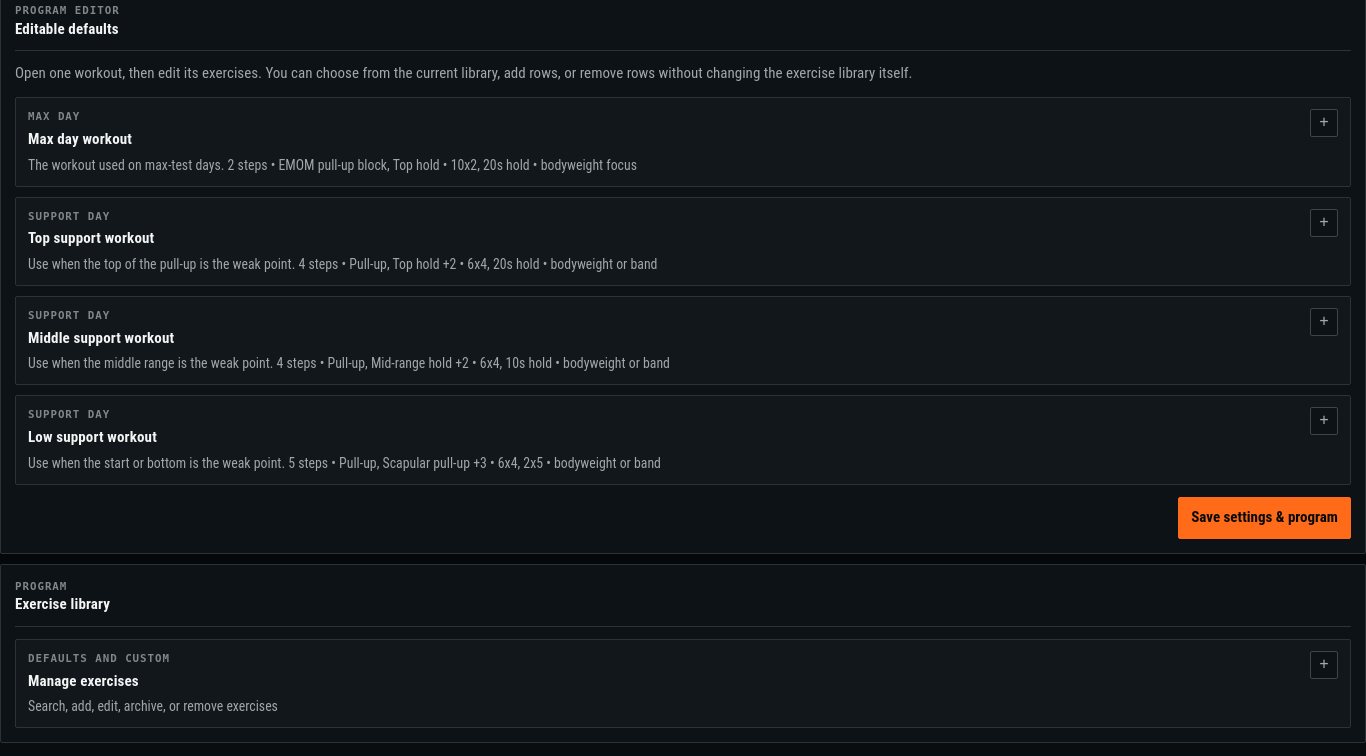
compact hybrid UI refresh › keeps a single program workout open at a time
Click the button "Max day workout": (54, 117) [16,98,1350,186]
(page scrolled)
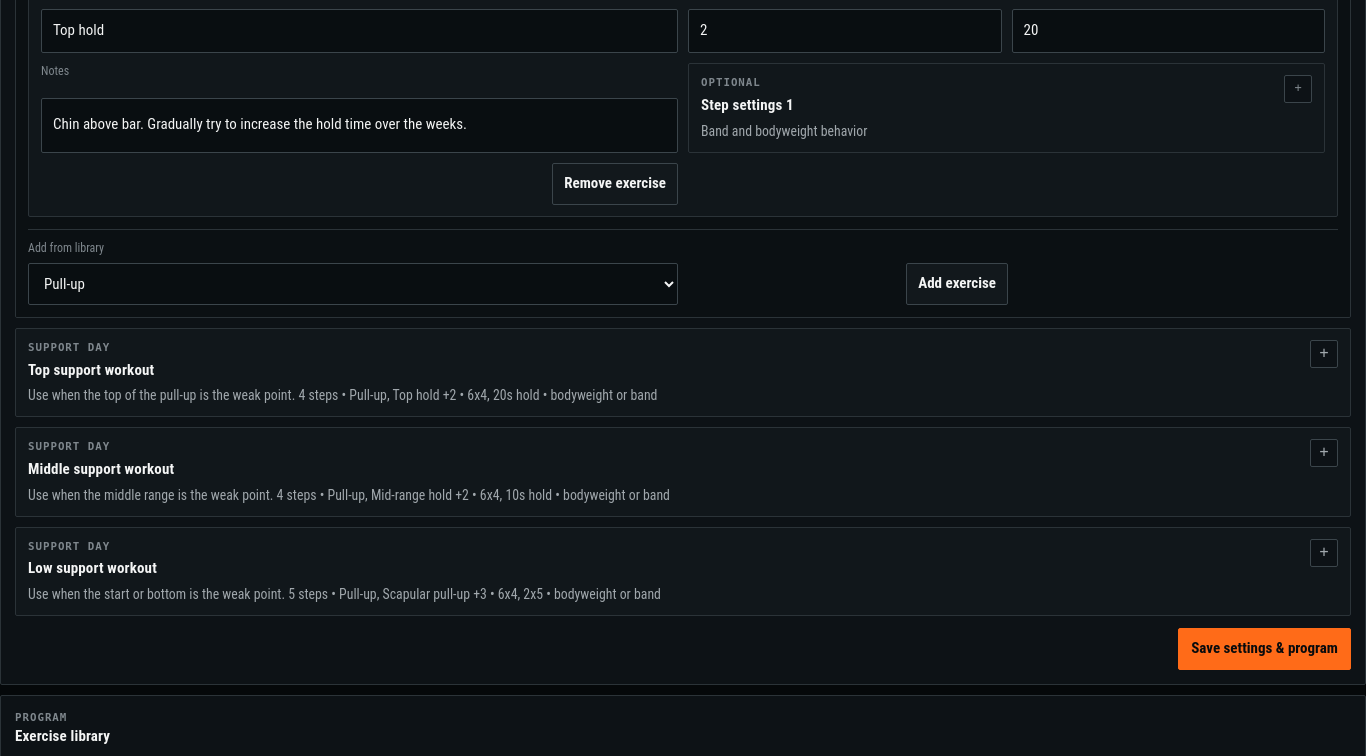
Check: the field showing "chin above bar. gradually try to increase the hold time over the weeks." is shown, box [41,98,678,152]
Click the button "Top support workout": (69, 347) [16,329,1350,416]
(page scrolled)
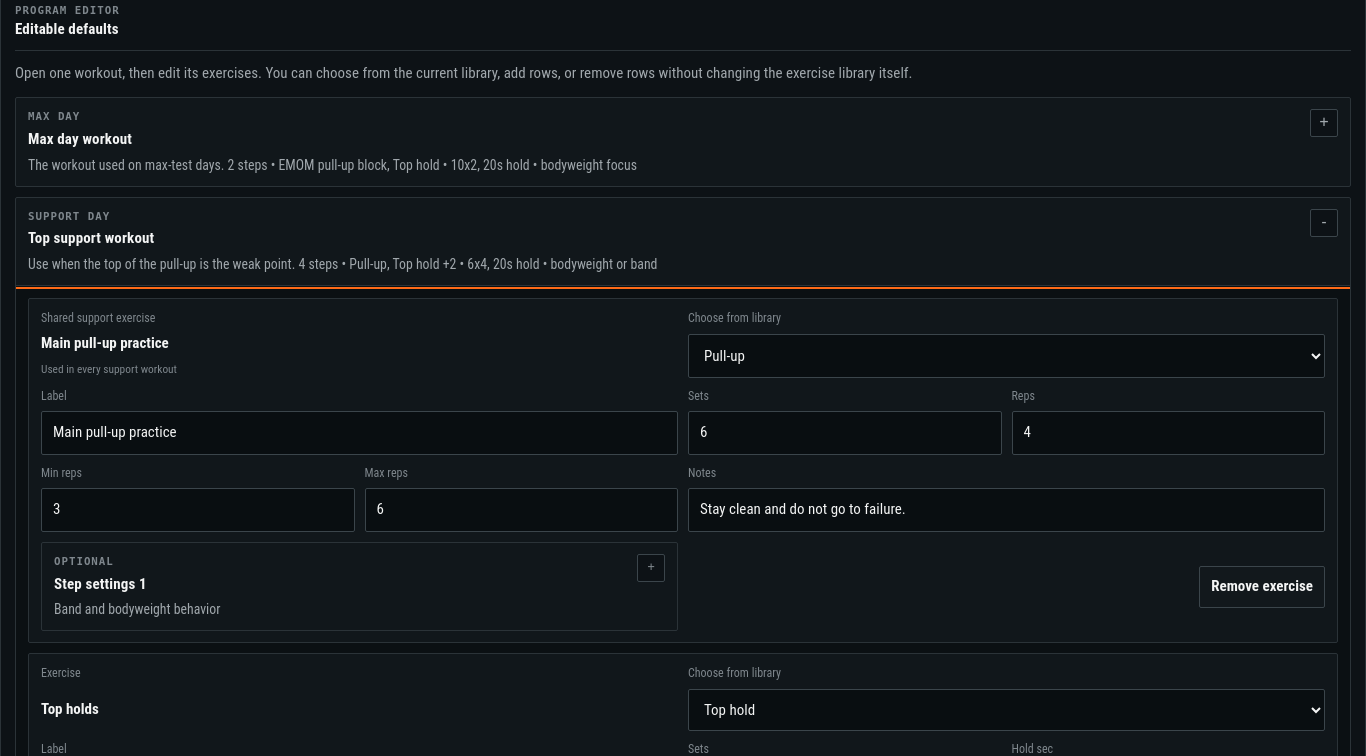
Check: the button "Max day workout" is collapsed, box [16,98,1350,186]
Check: the button "Top support workout" is expanded, box [16,198,1350,285]
Check: the text "Used in every support workout" is shown, box [41,362,177,376]
